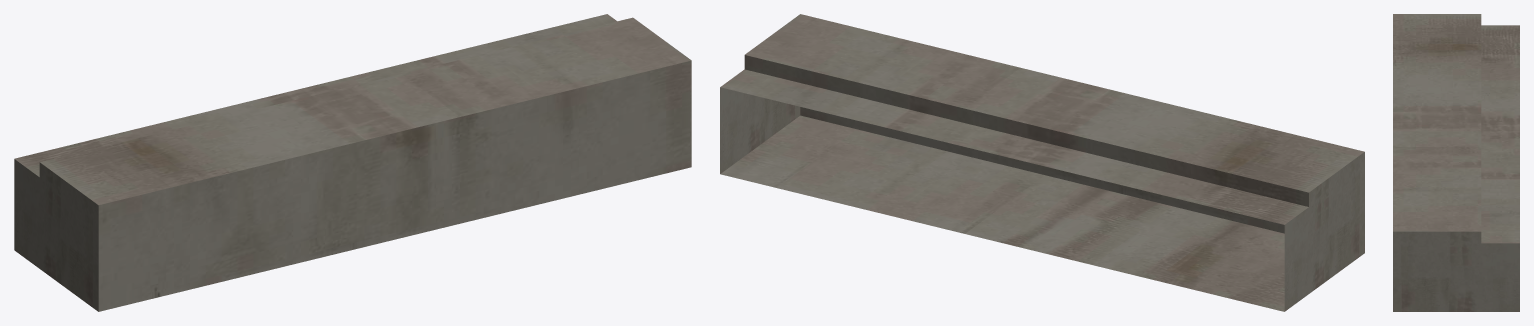
The model's file is ceiling_02.fbx.
3 renders of one model, left to right at view 1: azimuth 30°, elevation 25°; view 2: azimuth 150°, elevation 25°; view 3: azimuth 270°, elevation 25°, orthographic. The views are drawn at different scales.
Parts seen in each view (by area): view 1: Box106; view 2: Box106; view 3: Box106.
Part boxes in pixels (left/top/right/bottom): Box106: left=14, top=14, right=691, bottom=311; Box106: left=720, top=14, right=1364, bottom=311; Box106: left=1393, top=14, right=1519, bottom=311.
Size of the model in its own units: 714 by 123 by 176.
